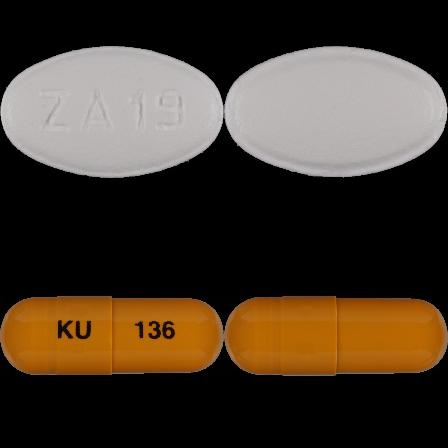63739-435: (0, 0, 224, 224)
